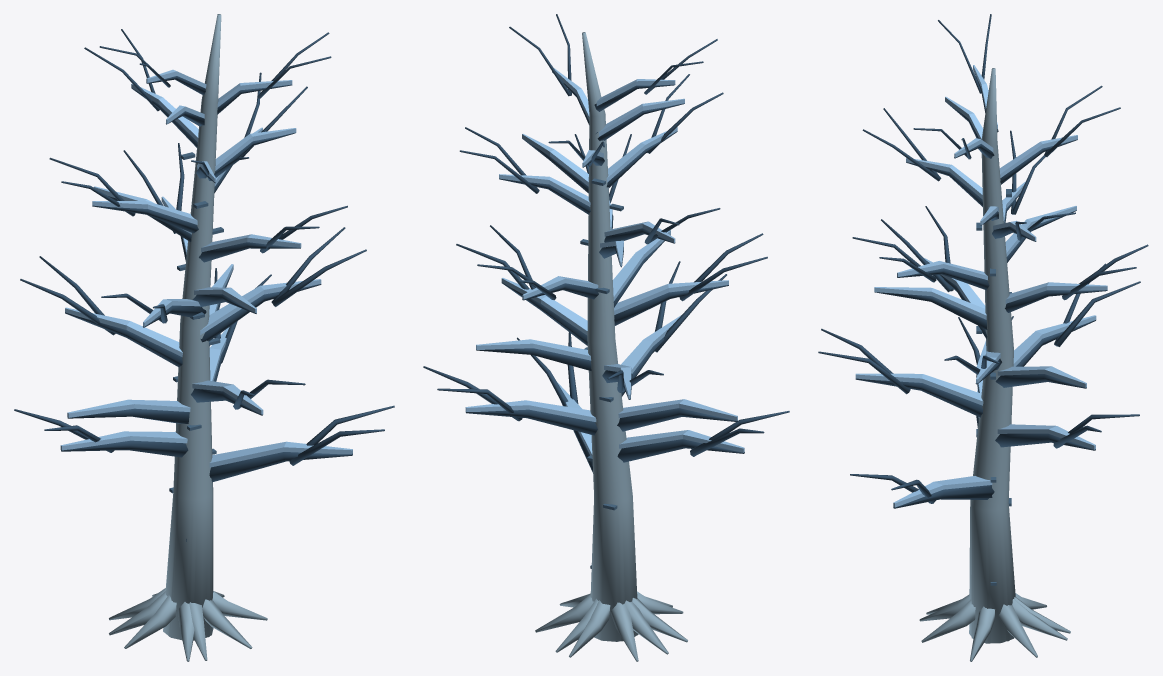
The model's file is tree_birch.glb.
3 renders of one model, left to right at view 1: azimuth 30°, elevation 25°; view 2: azimuth 150°, elevation 25°; view 3: azimuth 270°, elevation 25°, orthographic. The views are drawn at different scales.
Visible parts, largest first — view 1: Near, Far; view 2: Near, Far; view 3: Near, Far.
Boxes of the visible parts, box(x1,y1,x2,y2) form: Near: box(14, 14, 394, 661); Far: box(67, 14, 352, 660); Near: box(423, 14, 789, 661); Far: box(476, 32, 737, 654); Near: box(818, 14, 1148, 657); Far: box(874, 68, 1086, 661).
Bounding box in the file's own units: 3.32 × 5.97 × 3.08.
